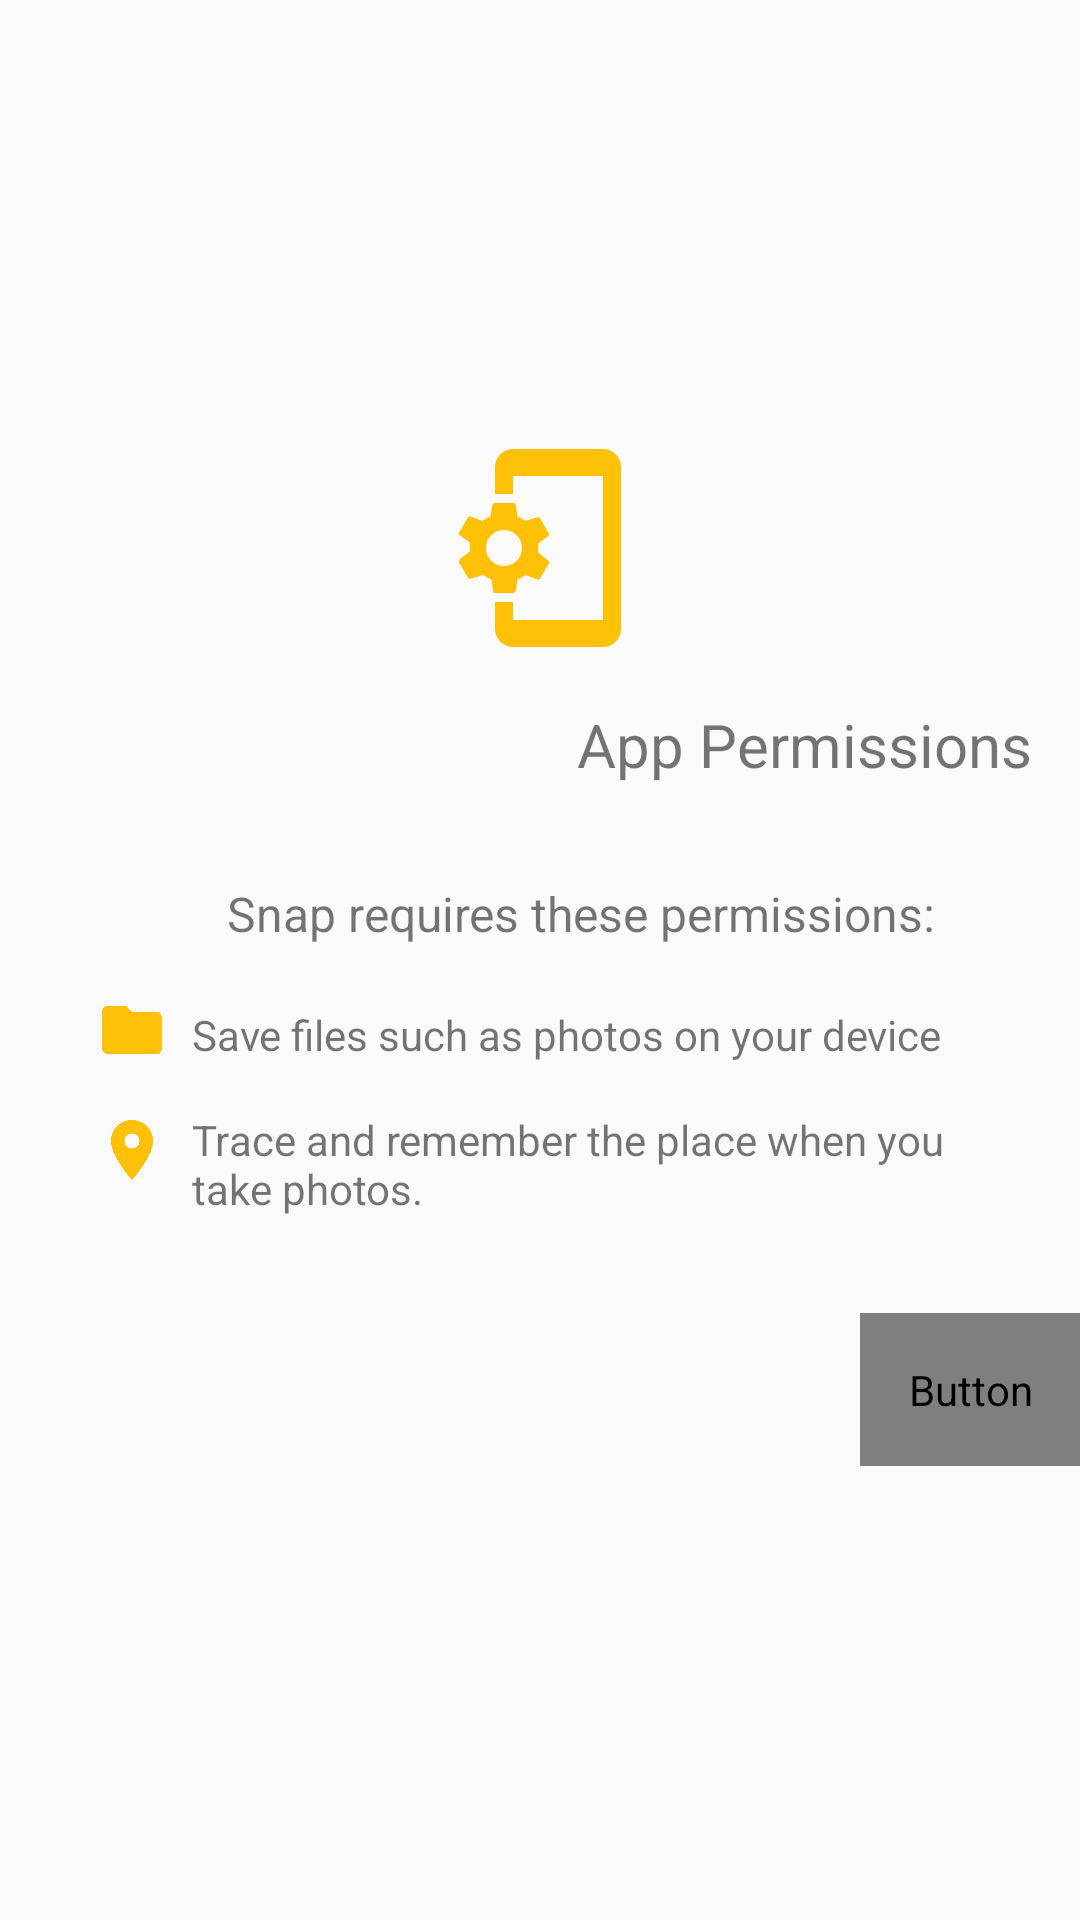

Icons on this 1080 x 1920 Android screen, each with its box as (x1, y1, x2, y2):
Location icon: (111, 1120, 153, 1180)
Phone Setup icon: (458, 449, 621, 647)
